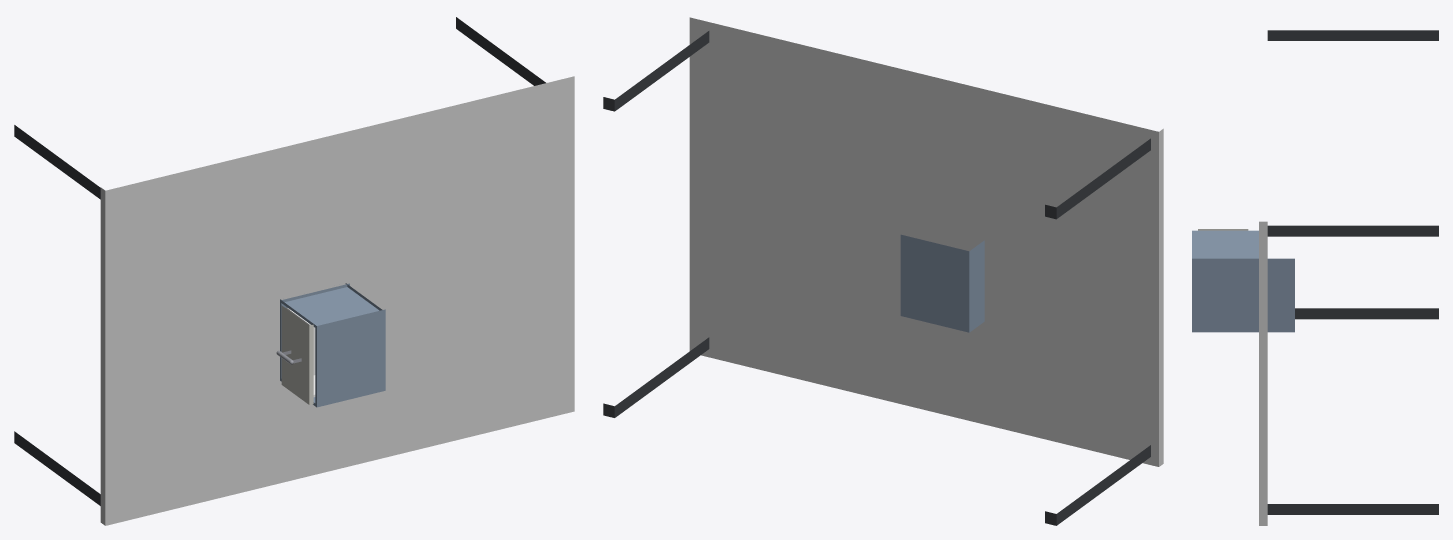
The picture shows the model from 3 angles, left to right: view 1: azimuth 30°, elevation 25°; view 2: azimuth 150°, elevation 25°; view 3: azimuth 270°, elevation 25°; orthographic projection. The views are drawn at different scales.
Parts seen in each view (by area): view 1: s0, s1, s2; view 2: s0, s1; view 3: s0, s1.
Part boxes in pixels (x1,y1,x2,y2): s0: (14,17,574,525); s1: (280,283,385,407); s2: (276,305,315,404); s0: (603,17,1163,525); s1: (900,234,984,332); s0: (1259,30,1438,525); s1: (1192,230,1294,332).
Size of the model in its own units: 2.05 by 1.4 by 1.03.
